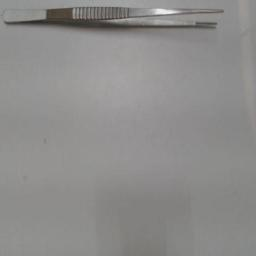DeBakey Dissector: (1, 3, 233, 35)
